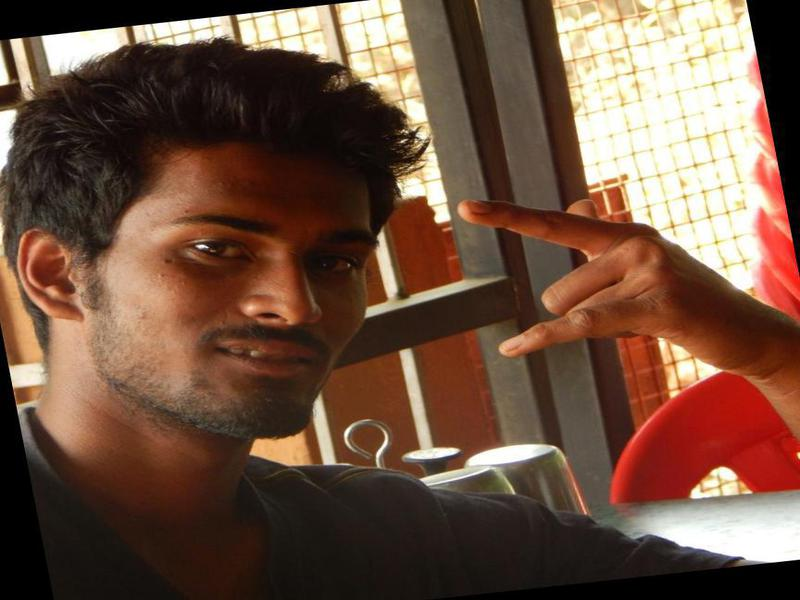without_mask: (87, 144, 376, 440)
